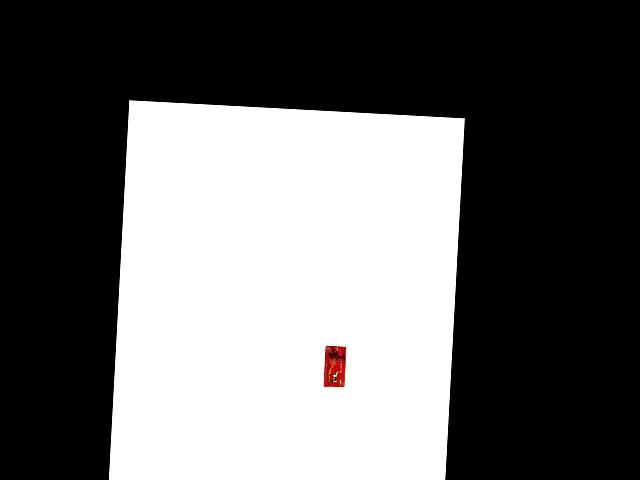chocolate: (321, 345, 346, 390)
